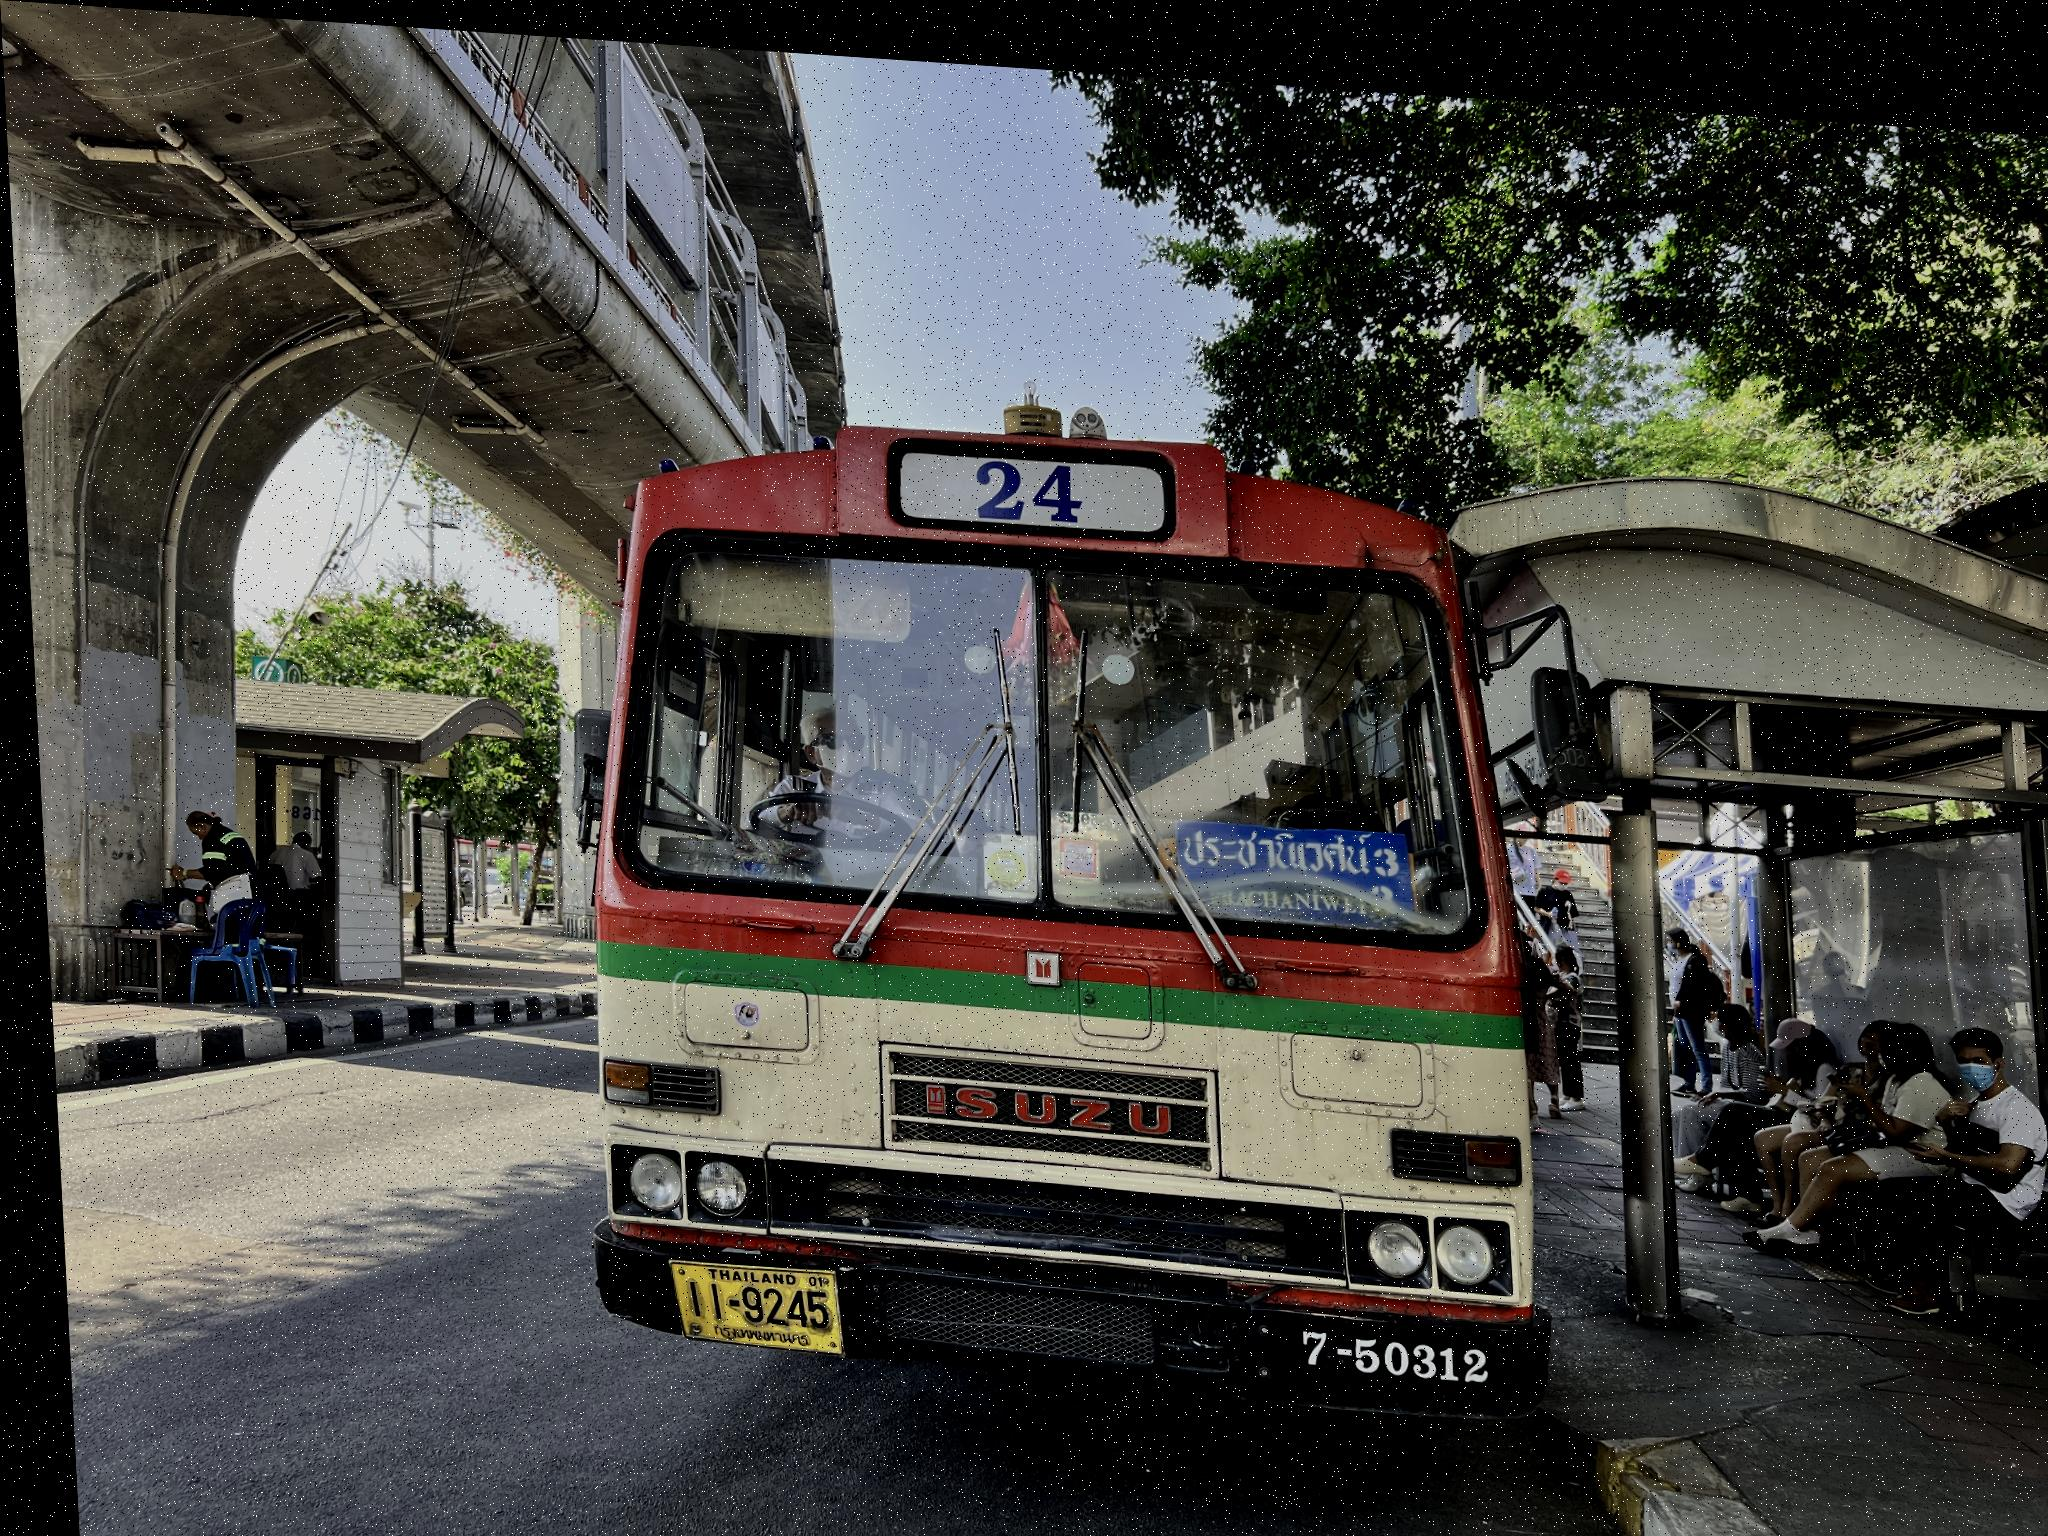BMTA-bus: (579, 411, 1540, 1402)
Bus Line Number: (876, 424, 1179, 529)
Bus Side Number: (1279, 1302, 1485, 1371)
Destination Sign: (1169, 803, 1409, 920)
